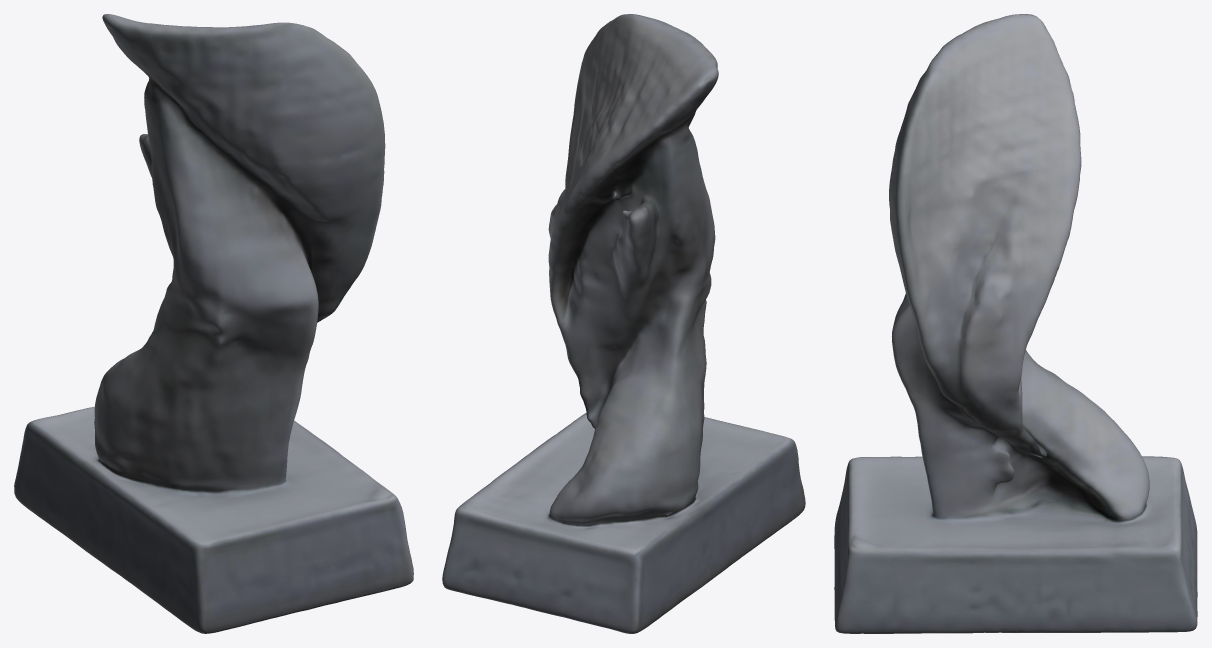
The model's file is 3305ec093c70_sculpture__3d_asset.fbx.
3 renders of one model, left to right at view 1: azimuth 30°, elevation 25°; view 2: azimuth 150°, elevation 25°; view 3: azimuth 270°, elevation 25°, orthographic. The views are drawn at different scales.
Parts seen in each view (by area): view 1: high_poly; view 2: high_poly; view 3: high_poly.
Boxes of the visible parts, x1,y1,x2,y2 form: high_poly: (14,14,413,633); high_poly: (442,14,805,633); high_poly: (834,14,1197,633).
Bounding box in the file's own units: 42.56 × 100 × 62.69.
